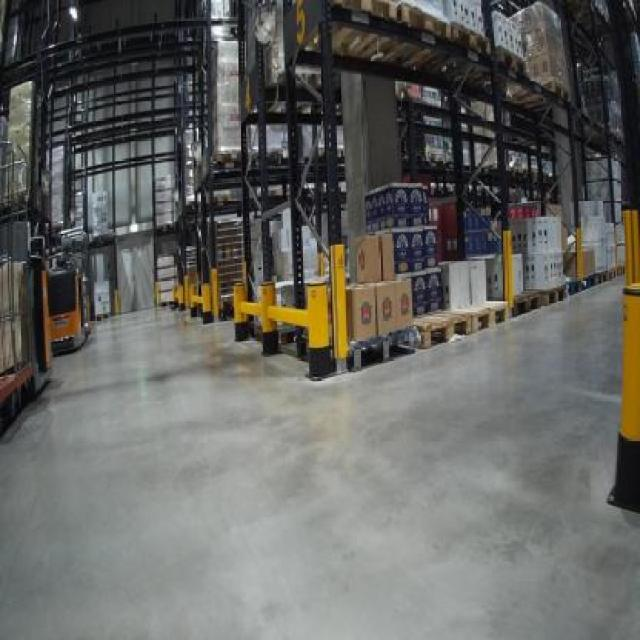pallet: (346, 317, 414, 377), (405, 311, 473, 354), (449, 304, 519, 334), (505, 292, 547, 318)
